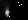person: (5, 7, 12, 19)
